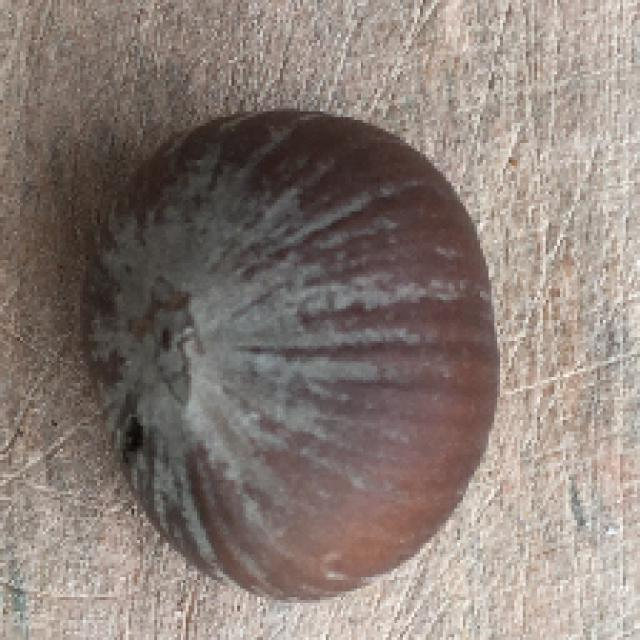damagedHazelnut: (90, 111, 512, 604)
